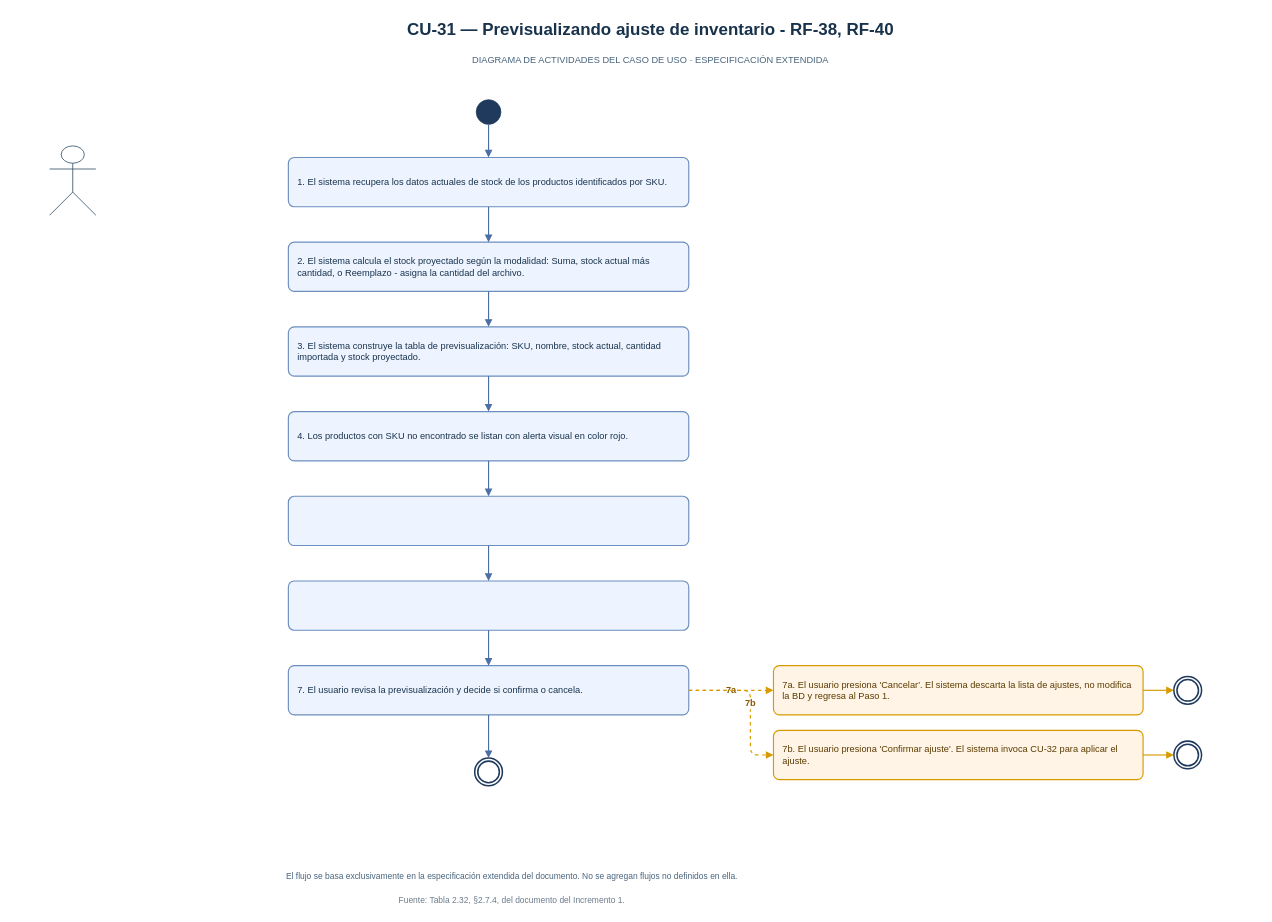
This 1272x922 diagram has some shape labels left out. Each missing label, with the centre of its shape:
5. Los aumentos de stock se resaltan en verde y las disminuciones en naranja.: the point at 488,520
6. El sistema muestra los botones 'Confirmar ajuste' y 'Cancelar'.: the point at 488,605
Administrador / Bodeguero: the point at 72,180
